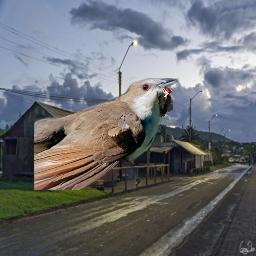Cuckoo: (34, 78, 179, 190)
Woodpecker: (155, 86, 173, 117)
